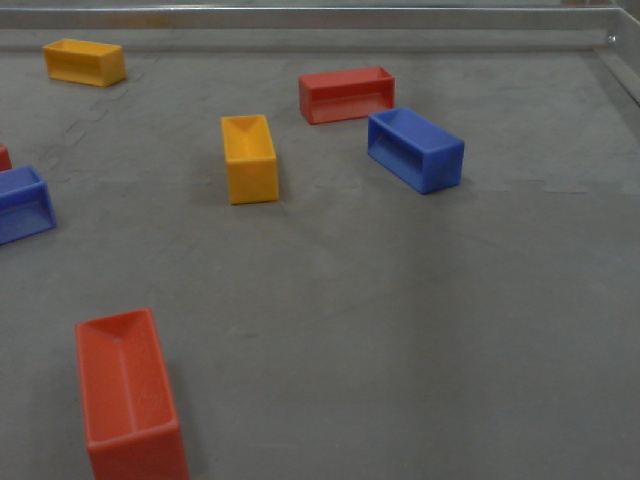BlueSample: (364, 105, 465, 198), (1, 164, 59, 249)
RedSample: (69, 306, 194, 480), (297, 67, 396, 124)
YellowSample: (215, 112, 285, 208), (41, 37, 126, 88)
